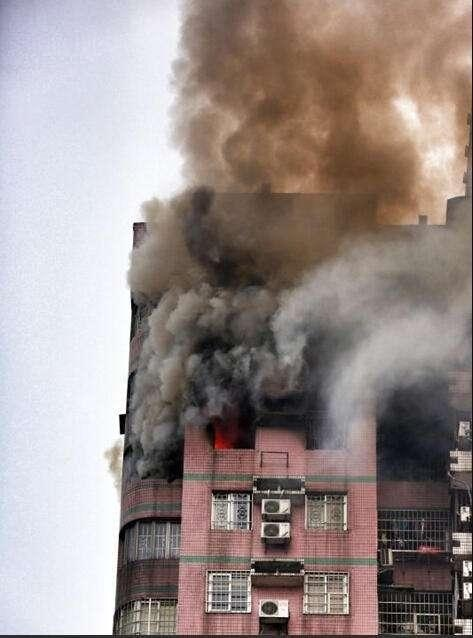fire: (211, 426, 236, 449)
